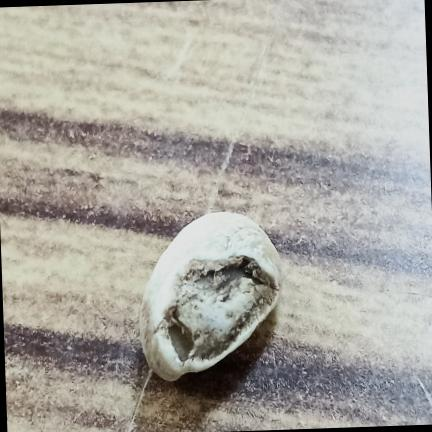cut: (141, 212, 281, 381)
